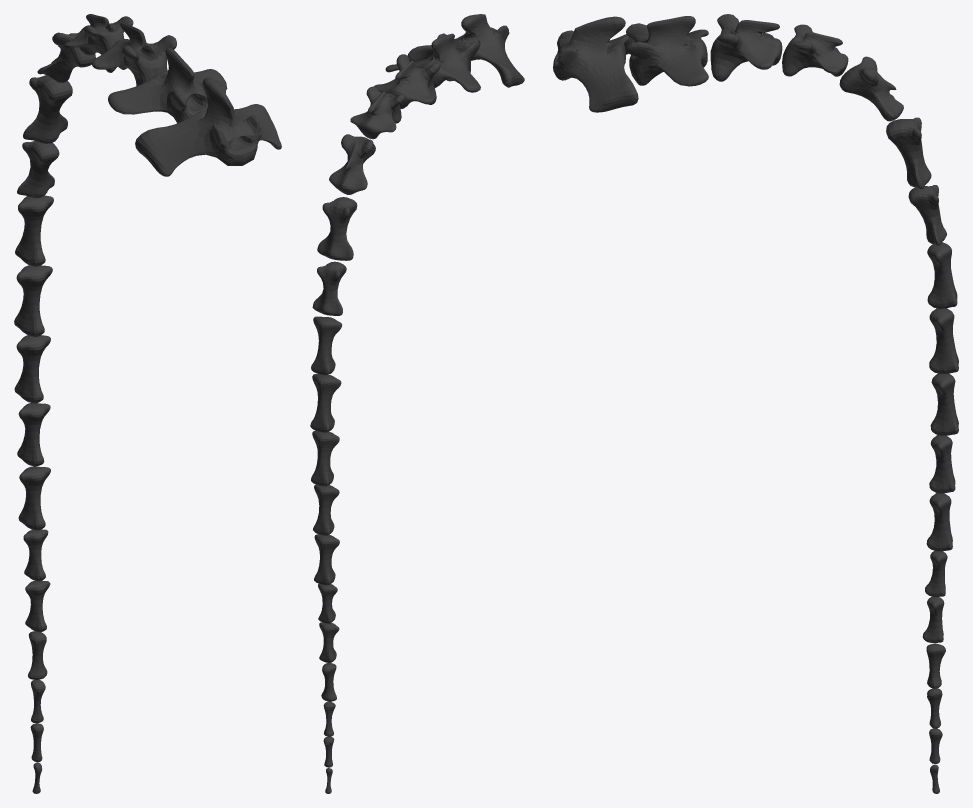
Rendered from b_vertebrae_caud_LO.glb.
3 renders of one model, left to right at view 1: azimuth 30°, elevation 25°; view 2: azimuth 150°, elevation 25°; view 3: azimuth 270°, elevation 25°, orthographic. The views are drawn at different scales.
Visible parts, largest first — view 1: b_vertebrae_caud_LO; view 2: b_vertebrae_caud_LO; view 3: b_vertebrae_caud_LO.
Part boxes in pixels (x1,y1,x2,y2): b_vertebrae_caud_LO: (14,14,281,793); b_vertebrae_caud_LO: (310,14,524,793); b_vertebrae_caud_LO: (553,14,958,793).
Bounding box in the file's own units: 0.000978 × 0.00609 × 0.00288.
Materials: 1 (1 with a texture image).
